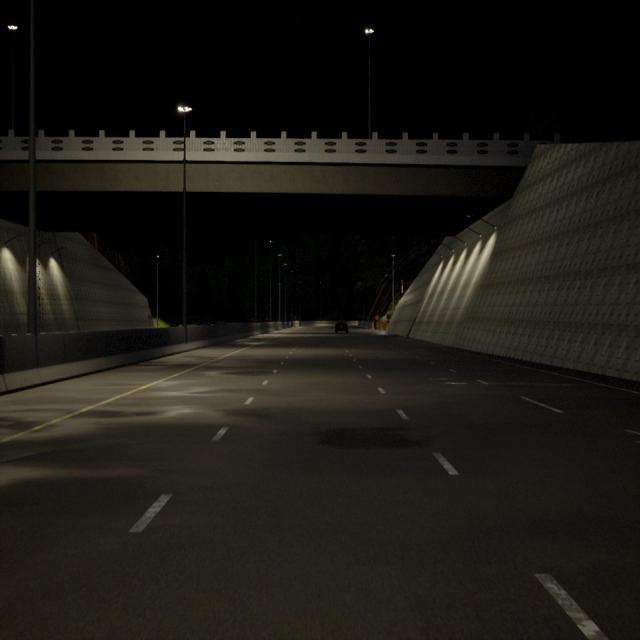Traffic_Signs: (375, 315, 379, 320)
Vehicle: (335, 320, 348, 334)
